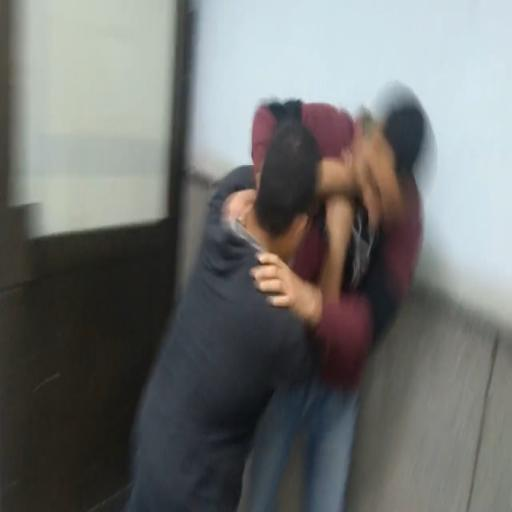violencia: (115, 60, 441, 509)
